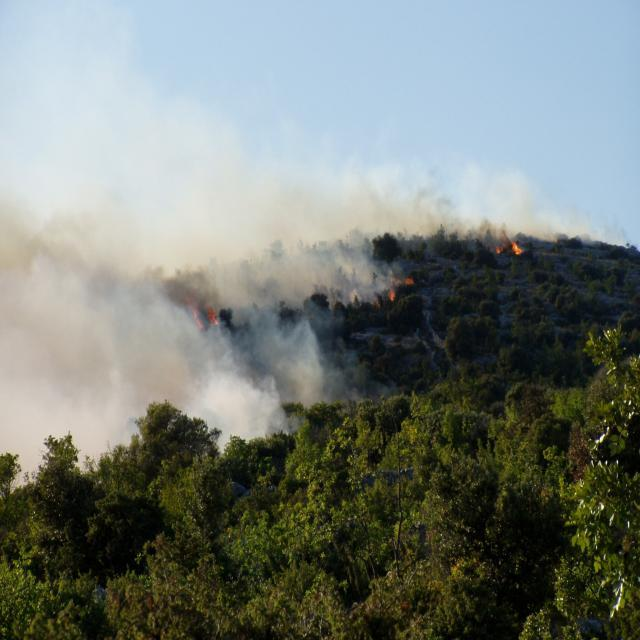Fire: (184, 290, 220, 330), (387, 274, 415, 302), (494, 231, 524, 256)
Smoke: (0, 4, 629, 498)
